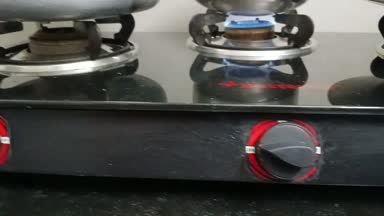flame_gas_on: (206, 11, 320, 180)
